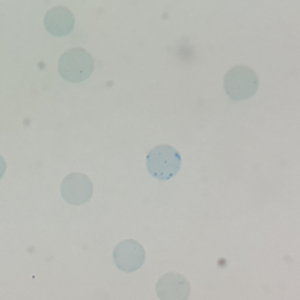aggregate reticulocyte: (144, 142, 183, 182)
erythrocyte: (58, 171, 94, 207), (111, 238, 146, 274), (153, 270, 193, 300), (42, 5, 77, 38)
punctate reticulocyte: (56, 47, 96, 85), (222, 65, 259, 104)
